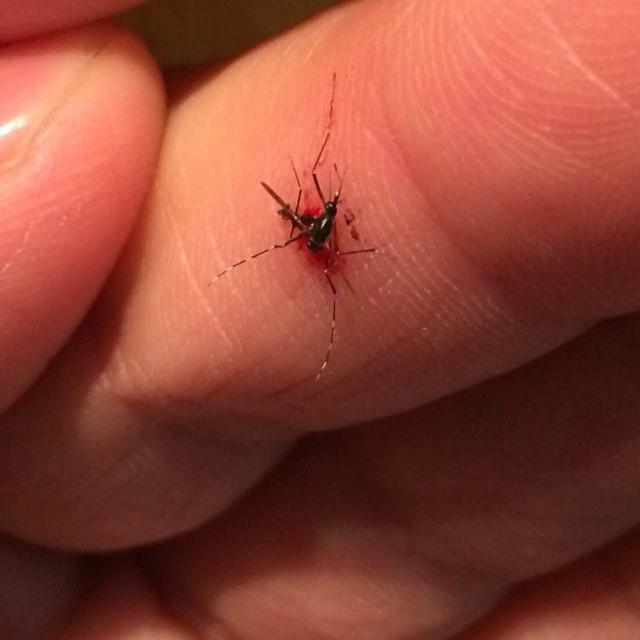albopictus: (202, 84, 389, 386)
